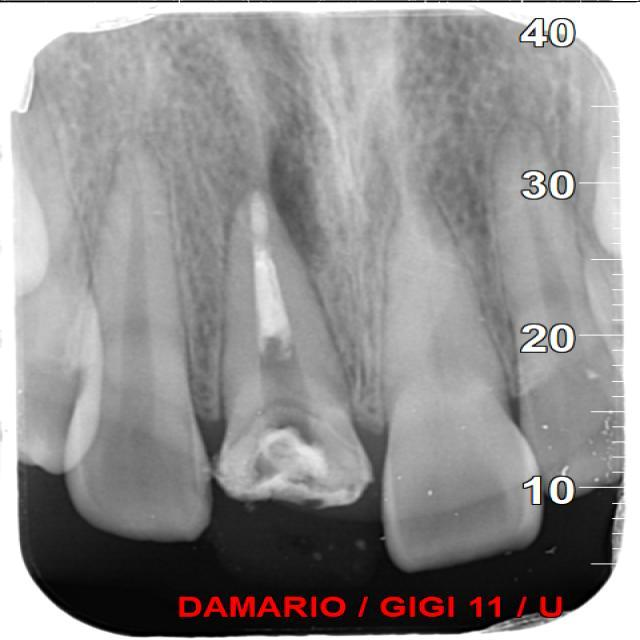individual-tooth-8tto: (379, 187, 546, 575), (65, 140, 204, 541), (213, 185, 356, 513)
